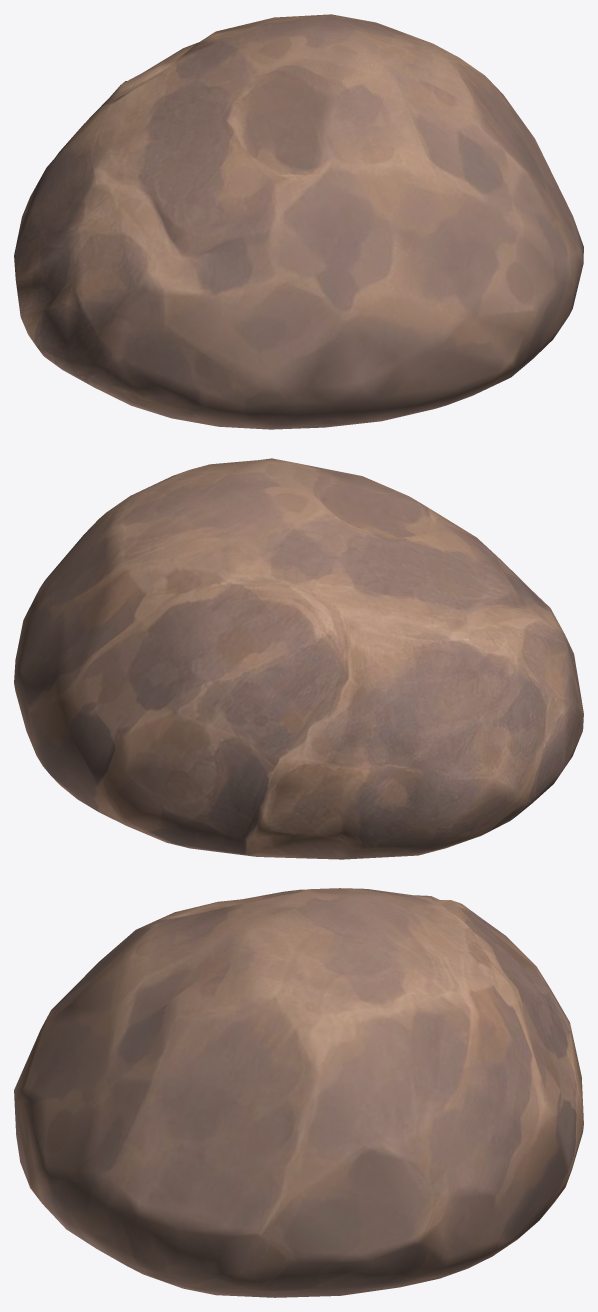
File: small_rock.glb
3 renders of one model, top to bottom at view 1: azimuth 30°, elevation 25°; view 2: azimuth 150°, elevation 25°; view 3: azimuth 270°, elevation 25°, orthographic. The views are drawn at different scales.
Parts seen in each view (by area): view 1: small_rock; view 2: small_rock; view 3: small_rock.
Boxes of the visible parts, left/top/right/bottom form: small_rock: left=14, top=14, right=583, bottom=429; small_rock: left=14, top=458, right=583, bottom=859; small_rock: left=14, top=888, right=583, bottom=1297.
Size of the model in its own units: 0.5286 by 0.3 by 0.4935.
Materials: 1 (1 with a texture image).
